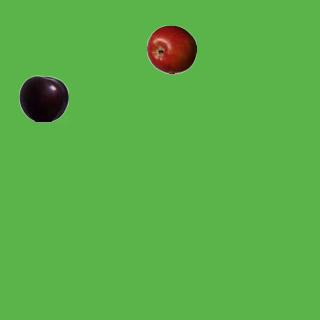Apple Braeburn: (146, 24, 196, 74)
Cherry Wax Black: (18, 73, 68, 123)
